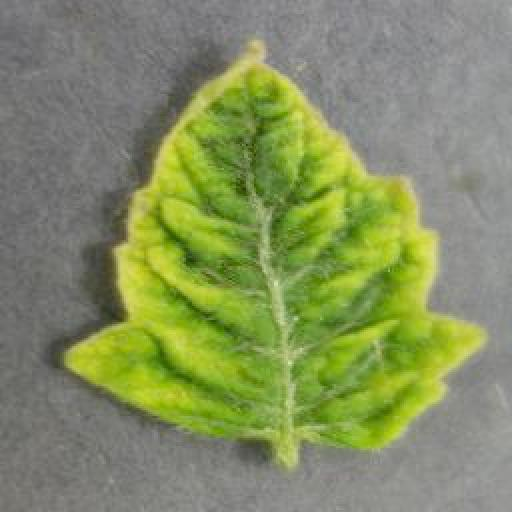disease_tomato: (64, 35, 486, 453)
